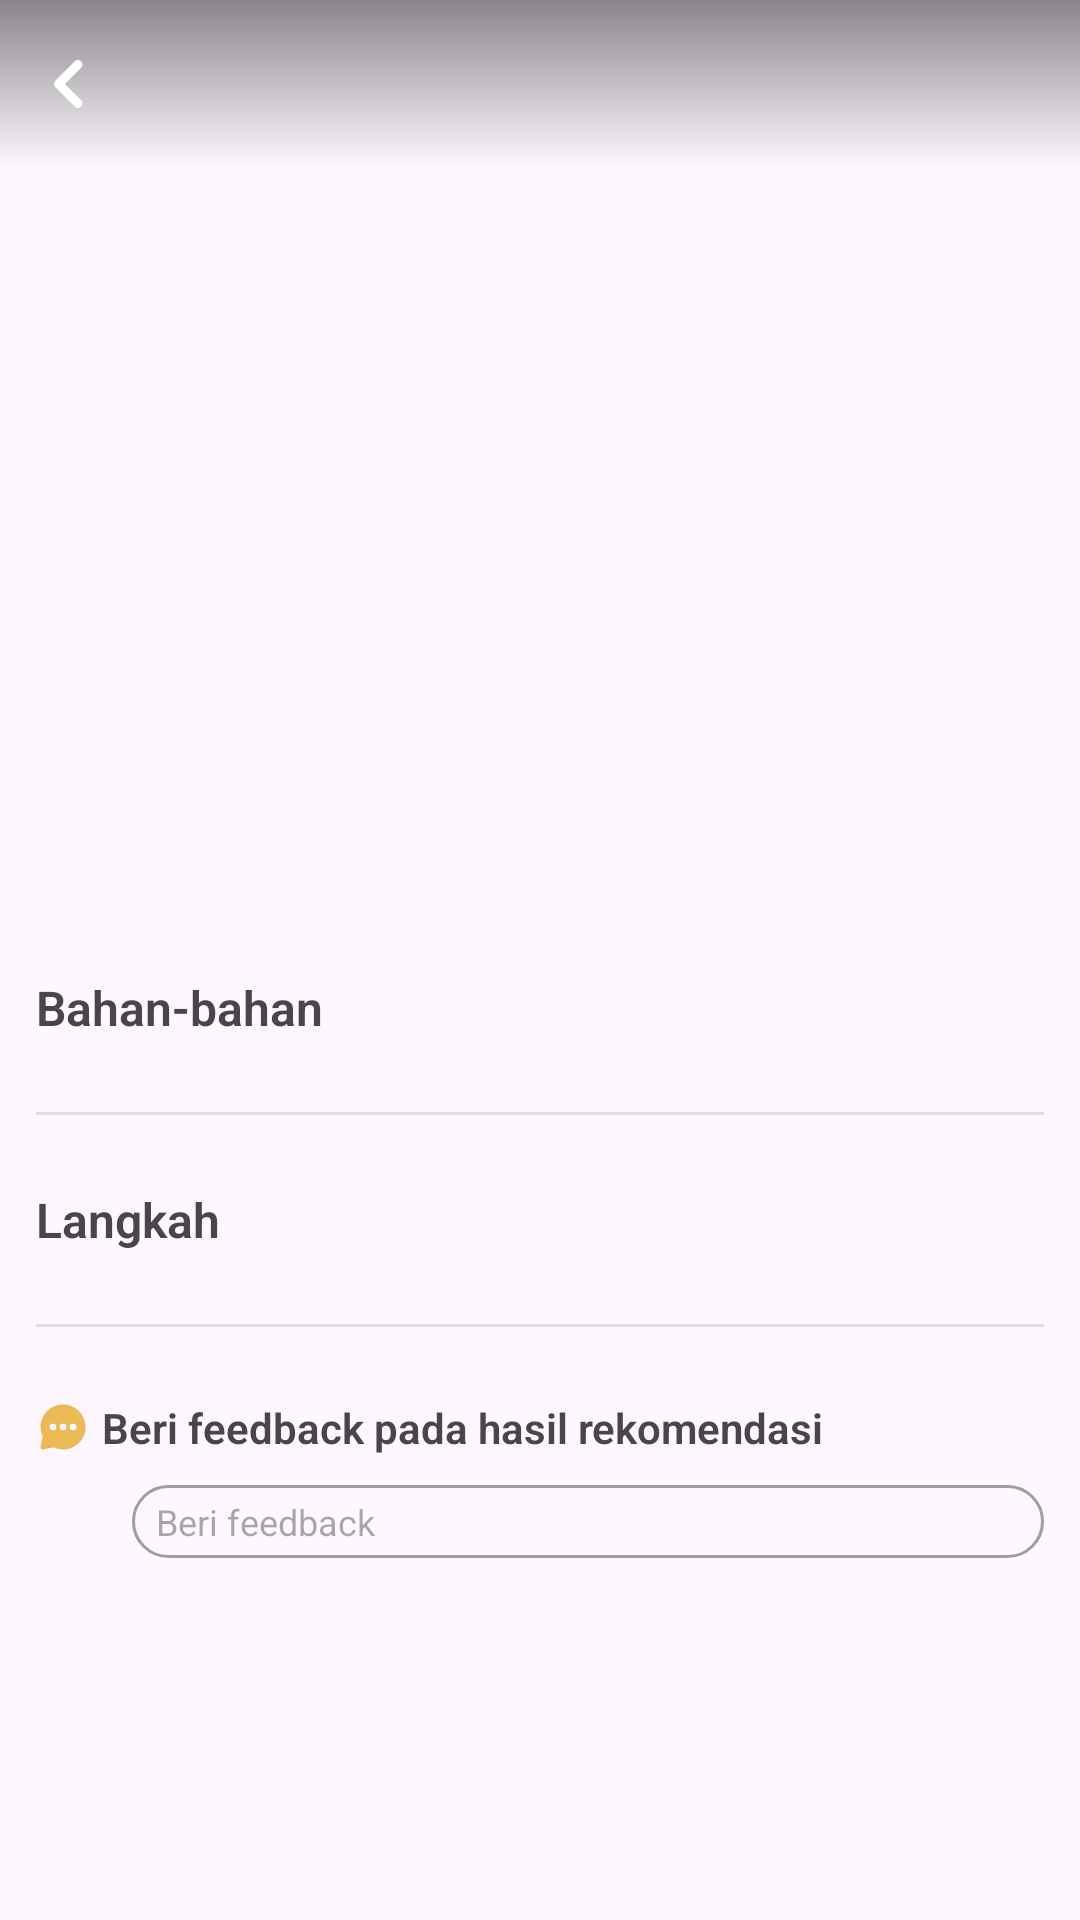

Where to tap for icons on this 1080 x 1920 app screen, as [x,y]:
back: [72,84]
comment: [63,1427]
